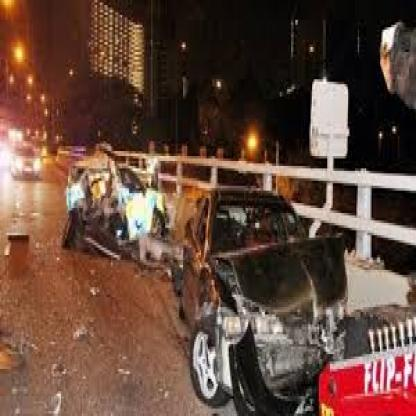accident: (177, 172, 362, 416), (58, 132, 170, 296)
